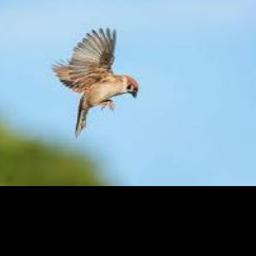Sparrow: (52, 28, 139, 137)
